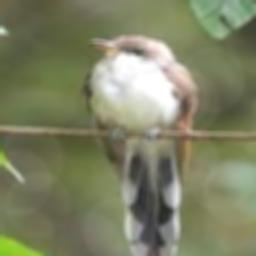Cuckoo: (79, 35, 197, 256)
